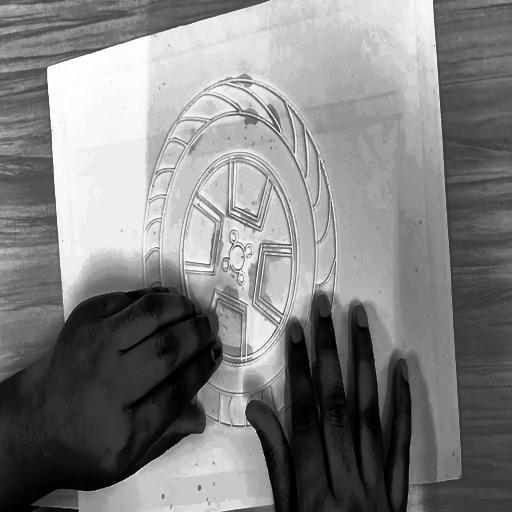bottom_right: (459, 469, 468, 483)
tire: (124, 45, 354, 452)
top_left: (42, 61, 52, 77)
